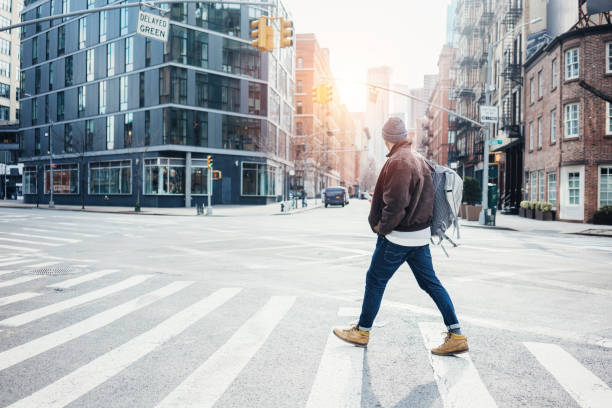yaya: (353, 109, 498, 395)
